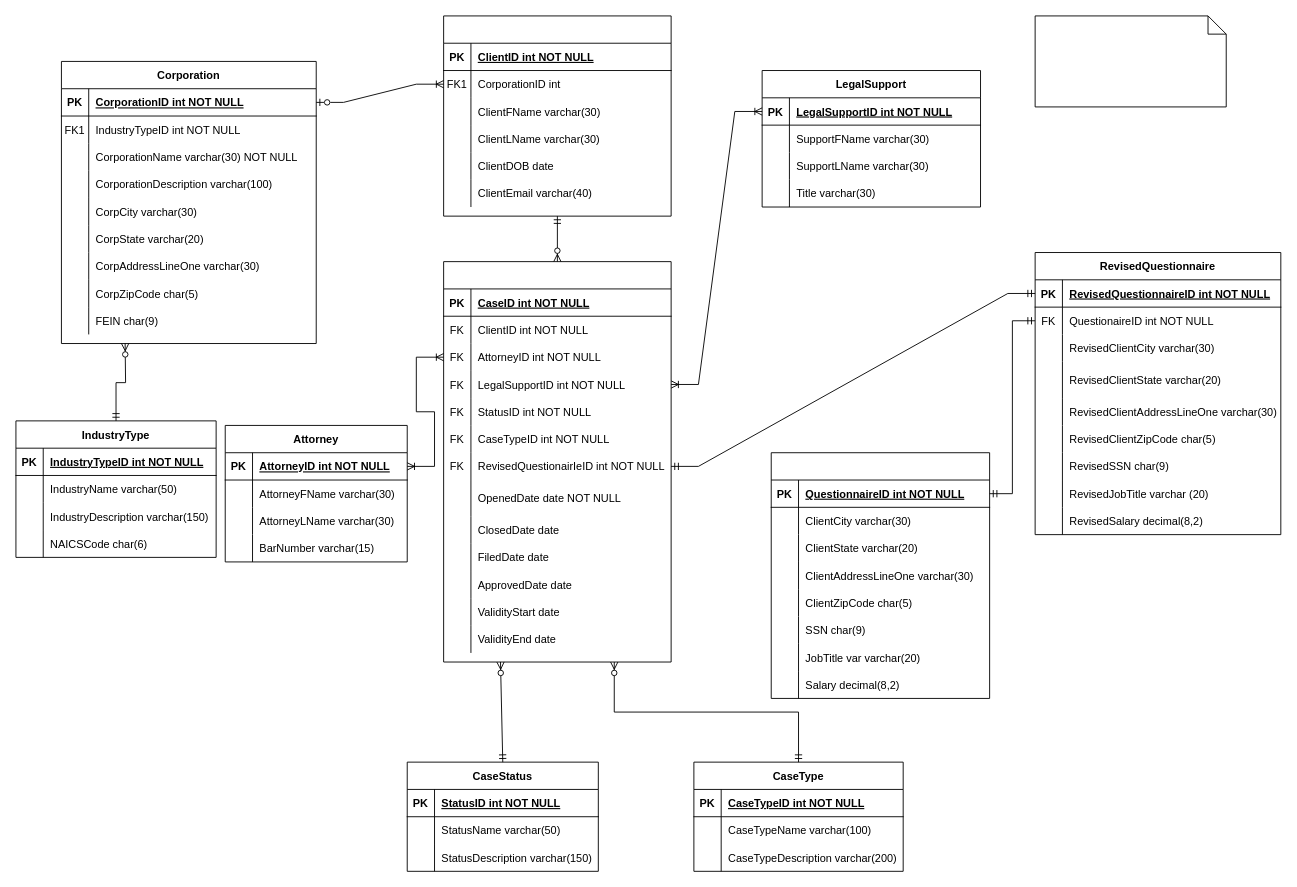
Image size: 1297x887. Some labels were removed from this diagram. Here are the shapes that lost their labels. From the top down, the box of each, then its label:
(1034, 15, 1226, 107): Immigration Case Management System ERD IMT 543 Chris Olson
(443, 15, 671, 216): Clients
(443, 261, 671, 662): Cases
(770, 452, 990, 698): QuestionnaireResults
